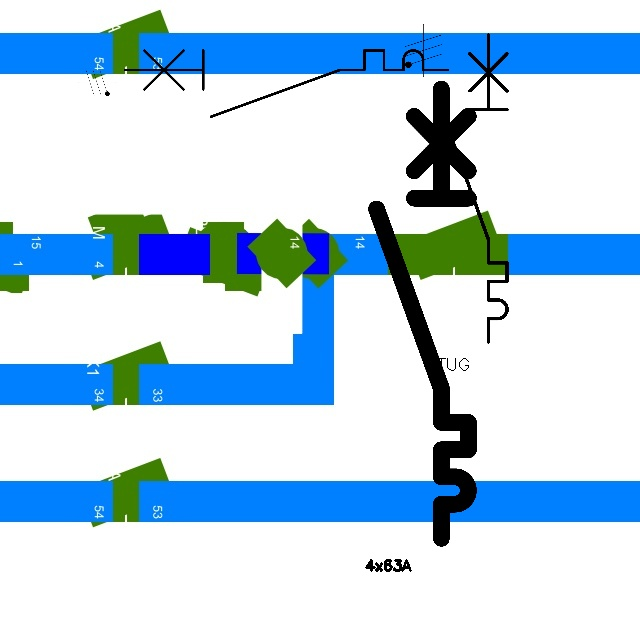interruptor_termomagnetico: (365, 77, 480, 549), (116, 42, 456, 125), (436, 27, 515, 350)
